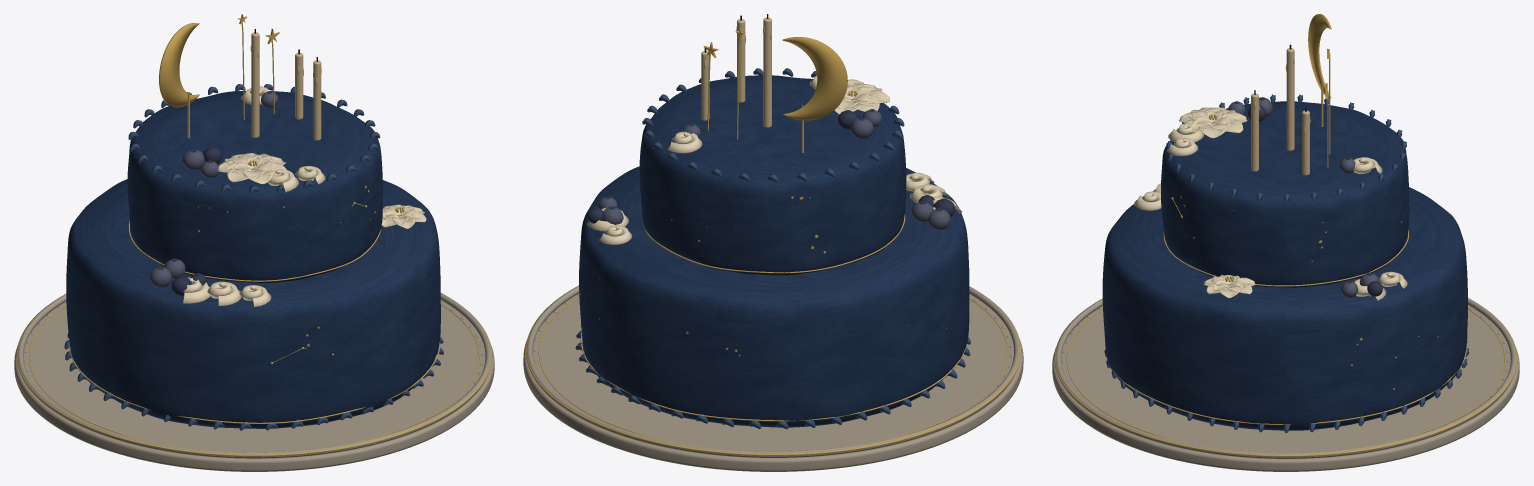
Rendered from star-cake.glb.
3 views of the same model, side by side, from view 1: azimuth 30°, elevation 25°; view 2: azimuth 150°, elevation 25°; view 3: azimuth 270°, elevation 25° (orthographic). The views are drawn at different scales.
Visible parts, largest first — view 1: Hand_spatula_lower_tier, Porcelain_salver, Handpainted_gold_rim, Hand_piped_cream.044, Hand_piped_cream, Candle_0, Blueberry.001, Blueberry; view 2: Hand_spatula_lower_tier, Porcelain_salver, Handpainted_gold_rim, Hand_piped_cream.044, Hand_piped_cream, Candle_0, Blueberry.001, Blueberry; view 3: Hand_spatula_lower_tier, Porcelain_salver, Handpainted_gold_rim, Hand_piped_cream.044, Candle_0, Hand_piped_cream, Blueberry.001.
Part boxes in pixels (bbox=[...]): Hand_spatula_lower_tier: bbox=[66, 90, 440, 428]; Porcelain_salver: bbox=[14, 293, 494, 471]; Handpainted_gold_rim: bbox=[16, 14, 492, 456]; Hand_piped_cream.044: bbox=[183, 86, 426, 306]; Hand_piped_cream: bbox=[64, 84, 443, 430]; Candle_0: bbox=[250, 32, 321, 140]; Blueberry.001: bbox=[149, 92, 278, 287]; Blueberry: bbox=[158, 91, 271, 295]; Hand_spatula_lower_tier: bbox=[579, 75, 969, 427]; Porcelain_salver: bbox=[523, 285, 1023, 471]; Handpainted_gold_rim: bbox=[525, 28, 1021, 455]; Hand_piped_cream.044: bbox=[587, 75, 961, 244]; Hand_piped_cream: bbox=[575, 68, 970, 429]; Candle_0: bbox=[701, 17, 771, 127]; Blueberry.001: bbox=[598, 110, 950, 230]; Blueberry: bbox=[587, 109, 954, 223]; Hand_spatula_lower_tier: bbox=[1102, 101, 1467, 430]; Porcelain_salver: bbox=[1052, 298, 1519, 471]; Handpainted_gold_rim: bbox=[1054, 14, 1517, 456]; Hand_piped_cream.044: bbox=[1134, 107, 1407, 300]; Candle_0: bbox=[1251, 48, 1310, 175]; Hand_piped_cream: bbox=[1104, 94, 1469, 432]; Blueberry.001: bbox=[1228, 98, 1379, 298].
Size of the model in its own units: 2.57 by 2.24 by 2.57.
10 materials, 6 textured.
